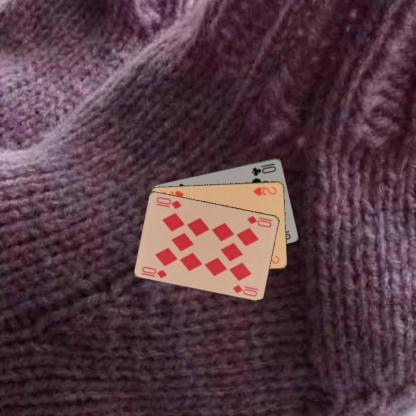10c: (249, 160, 277, 176)
10d: (244, 212, 274, 228), (140, 264, 169, 279)
2h: (250, 184, 278, 196)
